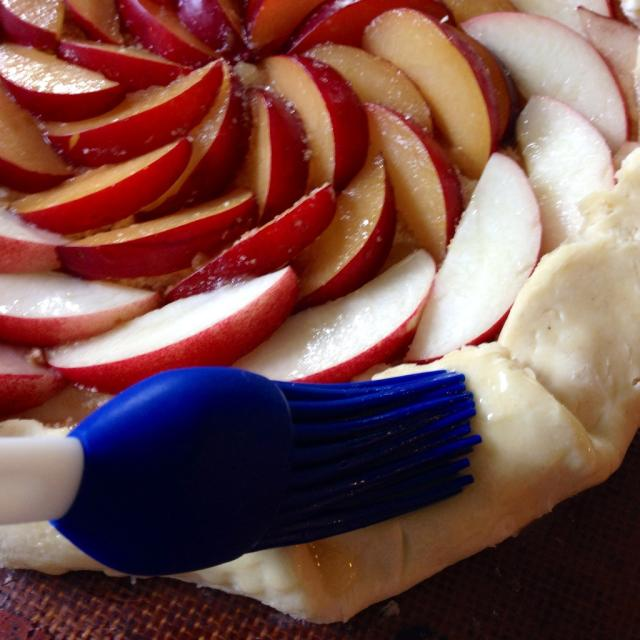Healty Apple: (0, 0, 640, 426), (403, 151, 544, 364)
